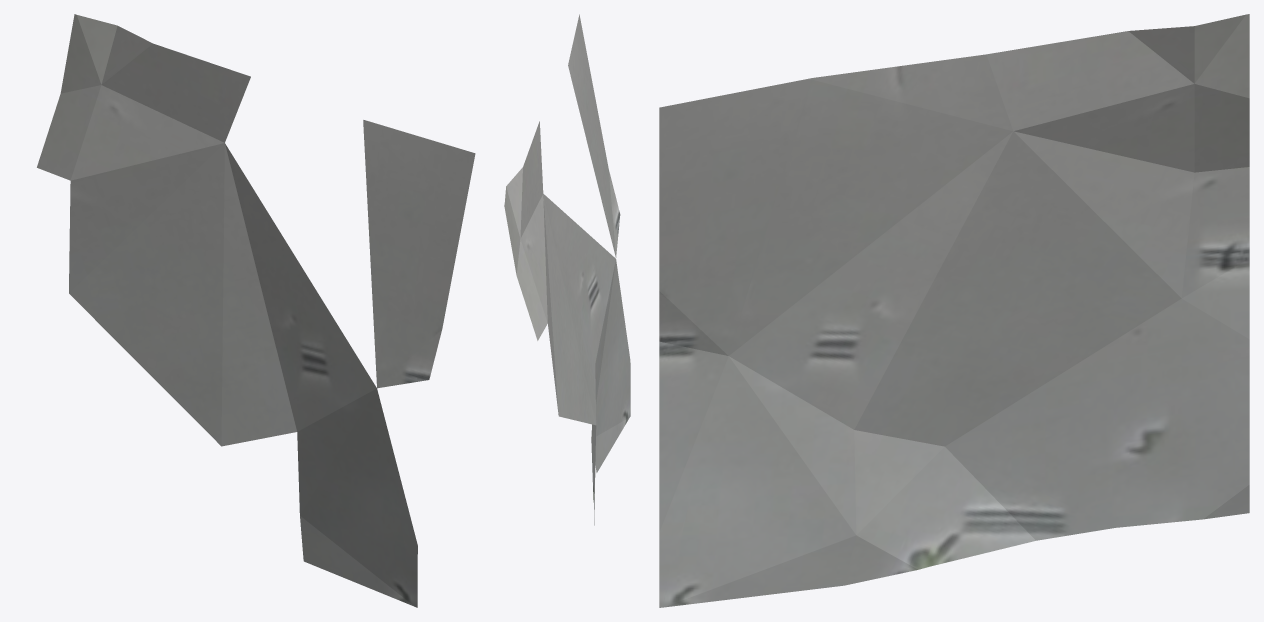
3 views of the same model, side by side, from view 1: azimuth 30°, elevation 25°; view 2: azimuth 150°, elevation 25°; view 3: azimuth 270°, elevation 25° (orthographic). The views are drawn at different scales.
Bounding box in the file's own units: 0.8676 × 1.67 × 1.67.
3 materials, 3 textured.
